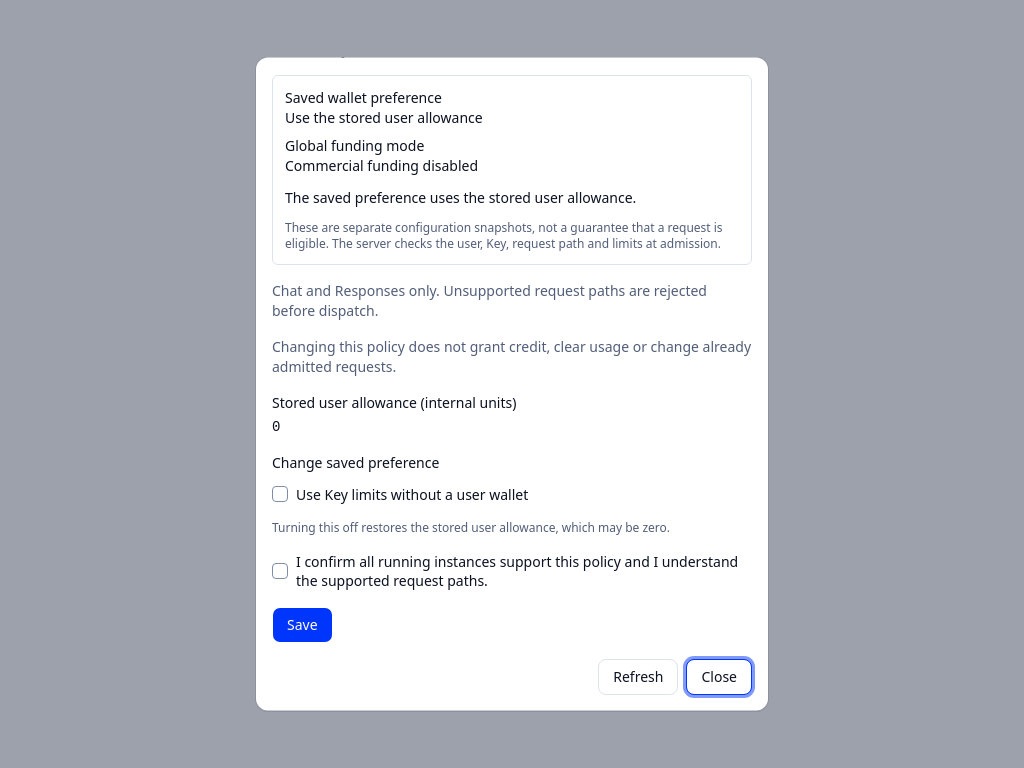
requires explicit confirmation and preserves zero allowance when enabling self-use
(page scrolled)
Click the checkbox named "Use Key limits without a user wallet" next to "Use Key limits without a user wallet".
click(280, 494)  # box [272,486,288,502]
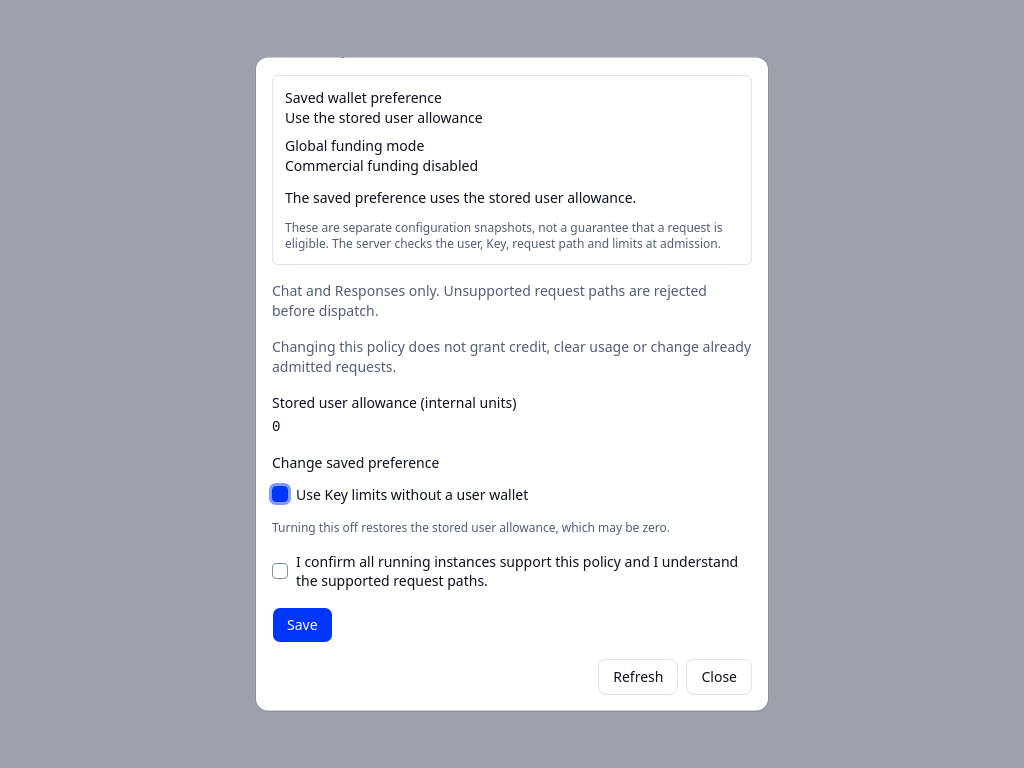
Click the button "Save".
click(302, 624)  # box [272,606,333,642]
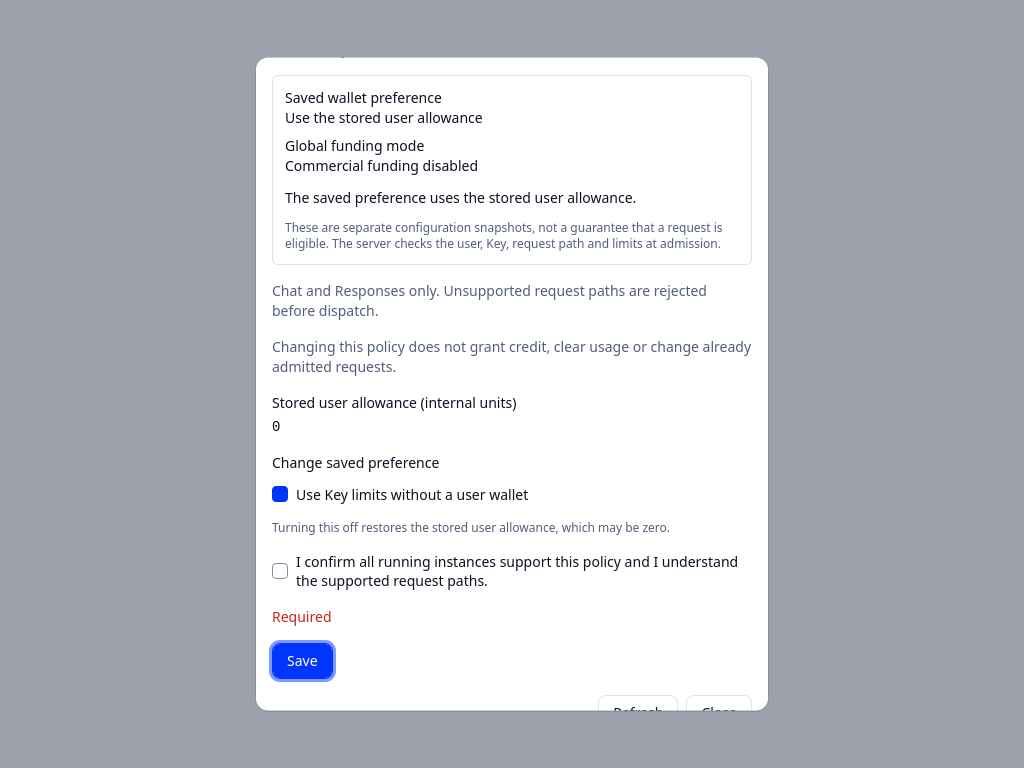
Now the text "Required" is shown, box [272,606,332,625]
Click the 2nd checkbox named "I confirm all running instances support this policy and I understand the supported request paths.".
click(280, 571)  # box [272,563,288,579]
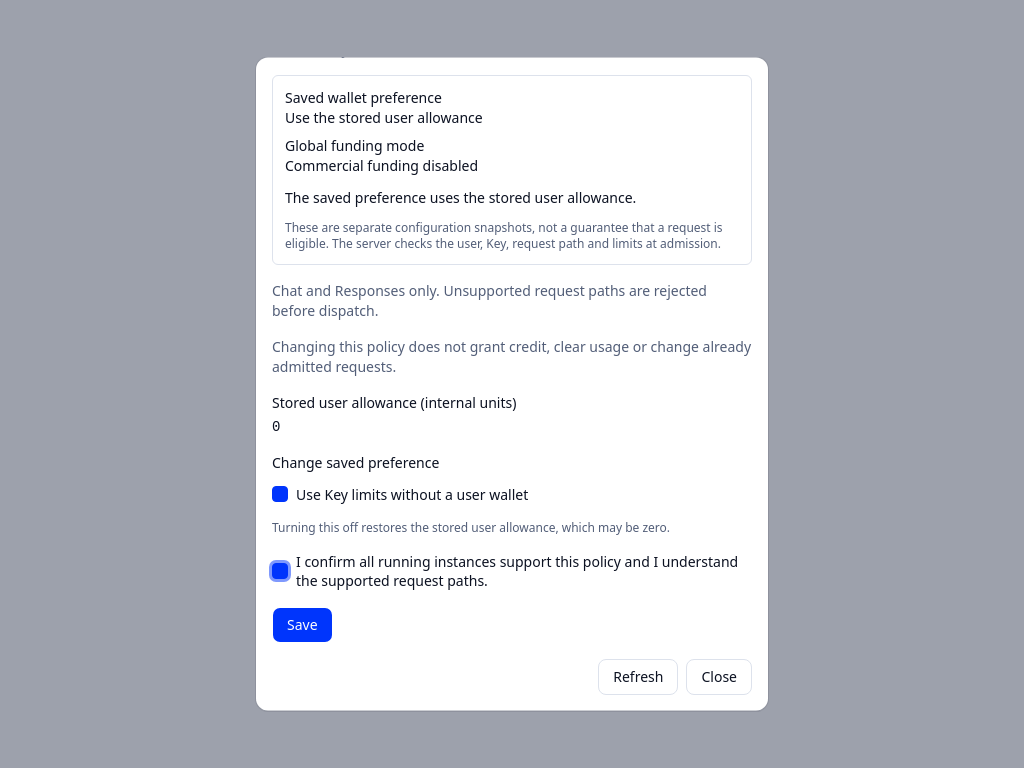
Click the button "Save".
click(302, 624)  # box [272,606,333,642]
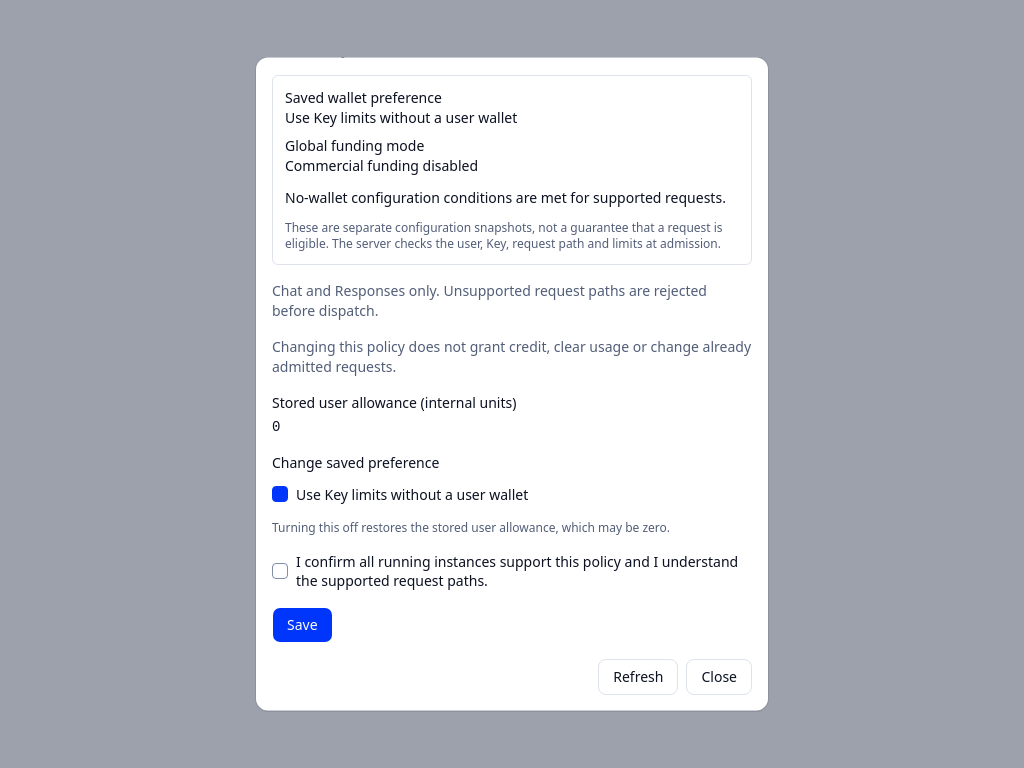
Expected: the text "0" is shown, [272,418,280,434]
Now the 2nd checkbox named "I confirm all running instances support this policy and I understand the supported request paths." is not checked, box [272,563,288,579]
